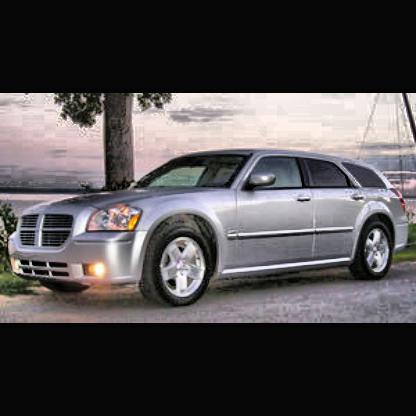Dodge Magnum Wagon 2008: (6, 148, 416, 306)
